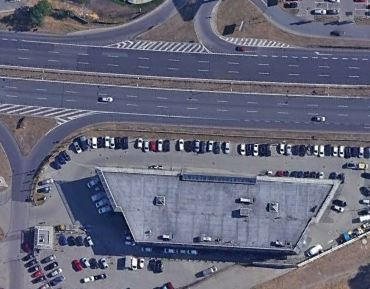shopping_center: (86, 159, 346, 262)
